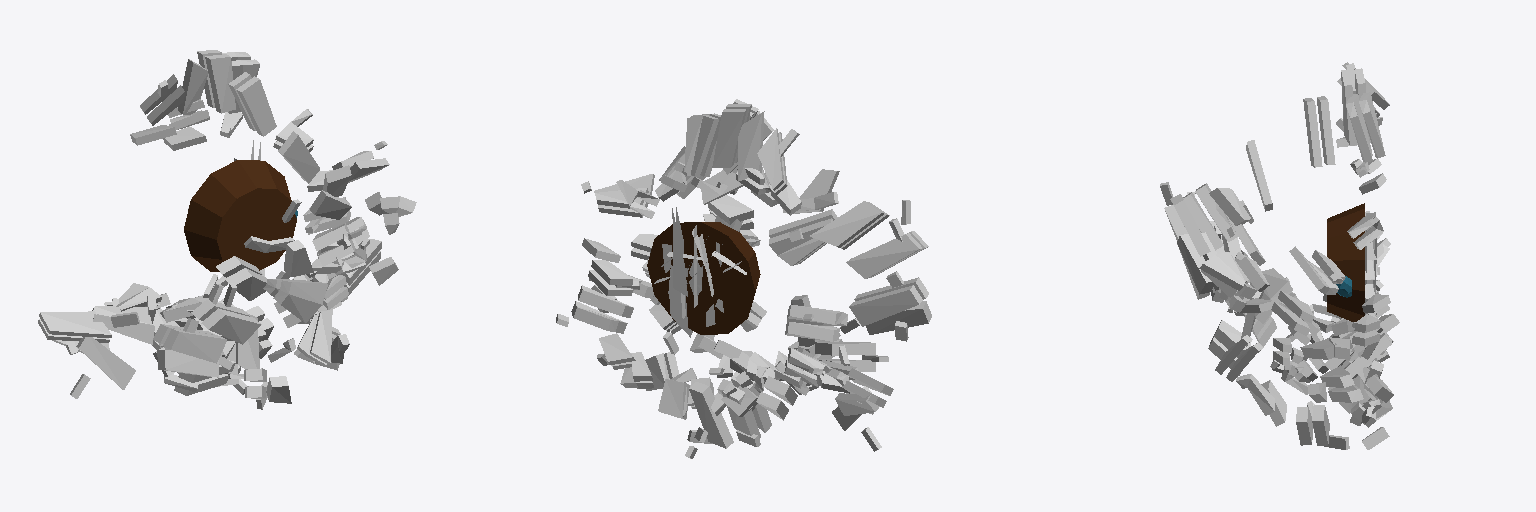
3 renders of one model, left to right at view 1: azimuth 30°, elevation 25°; view 2: azimuth 150°, elevation 25°; view 3: azimuth 270°, elevation 25°, orthographic.
Visible parts, largest first — view 1: Cone.001_Cone.001_cover, Cone_Cone_cover, Cylinder_Cylinder_Material.001; view 2: Cone_Cone_cover, Cone.001_Cone.001_cover, Cylinder_Cylinder_Material.001, Plane_Plane_Material.003; view 3: Cone_Cone_cover, Cone.001_Cone.001_cover, Cylinder_Cylinder_Material.001, Plane_Plane_Material.003.
Boxes of the visible parts, <box> form: Cone.001_Cone.001_cover: <box>38,50,389,398</box>; Cone_Cone_cover: <box>111,165,416,409</box>; Cylinder_Cylinder_Material.001: <box>184,160,296,271</box>; Cone_Cone_cover: <box>556,146,931,458</box>; Cone.001_Cone.001_cover: <box>581,99,910,451</box>; Cylinder_Cylinder_Material.001: <box>647,222,760,334</box>; Plane_Plane_Material.003: <box>654,207,746,337</box>; Cone_Cone_cover: <box>1164,183,1399,449</box>; Cone.001_Cone.001_cover: <box>1160,62,1390,413</box>; Cylinder_Cylinder_Material.001: <box>1327,203,1364,321</box>; Plane_Plane_Material.003: <box>1365,211,1377,314</box>.
Bounding box in the file's own units: 3.42 × 3.52 × 2.14.
Materials: 4 (1 with a texture image).